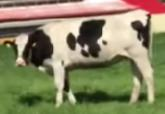cow: (5, 11, 154, 106)
